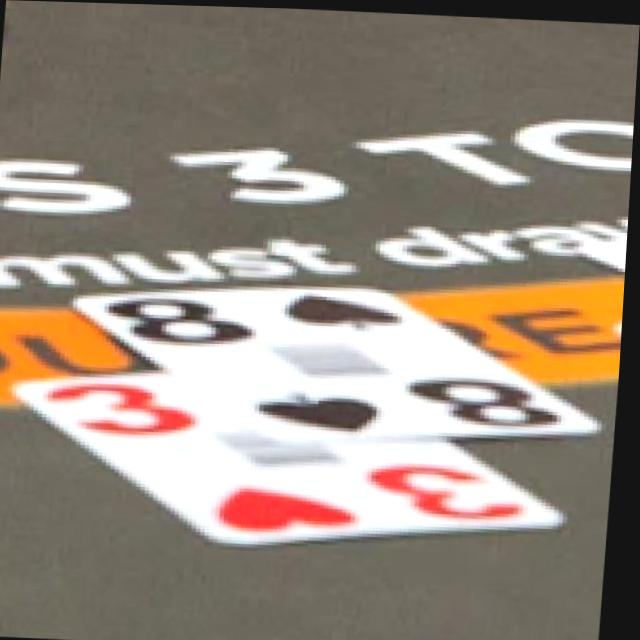Card-3: (16, 370, 570, 545)
Card-8: (75, 280, 605, 443)
